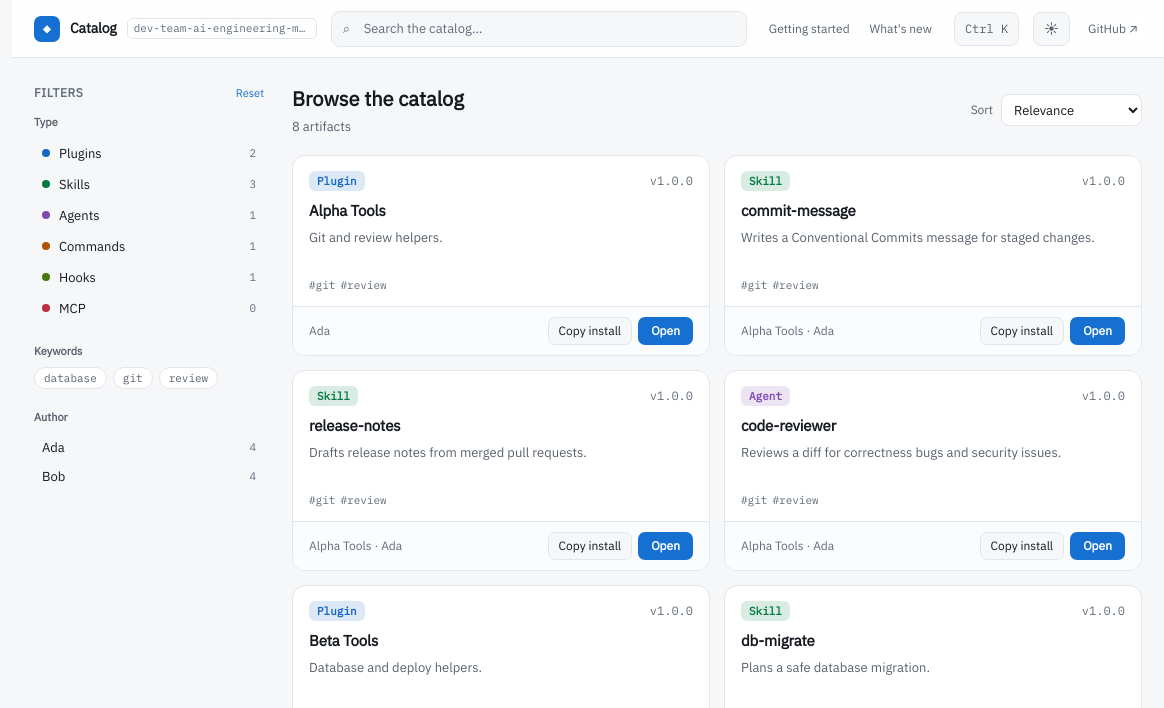
Test: search page URL state › typing in the header searches live (debounced) and replaces the URL
In the field labelled "Search the catalog": (539, 28) [331,10,747,46], type "commit"
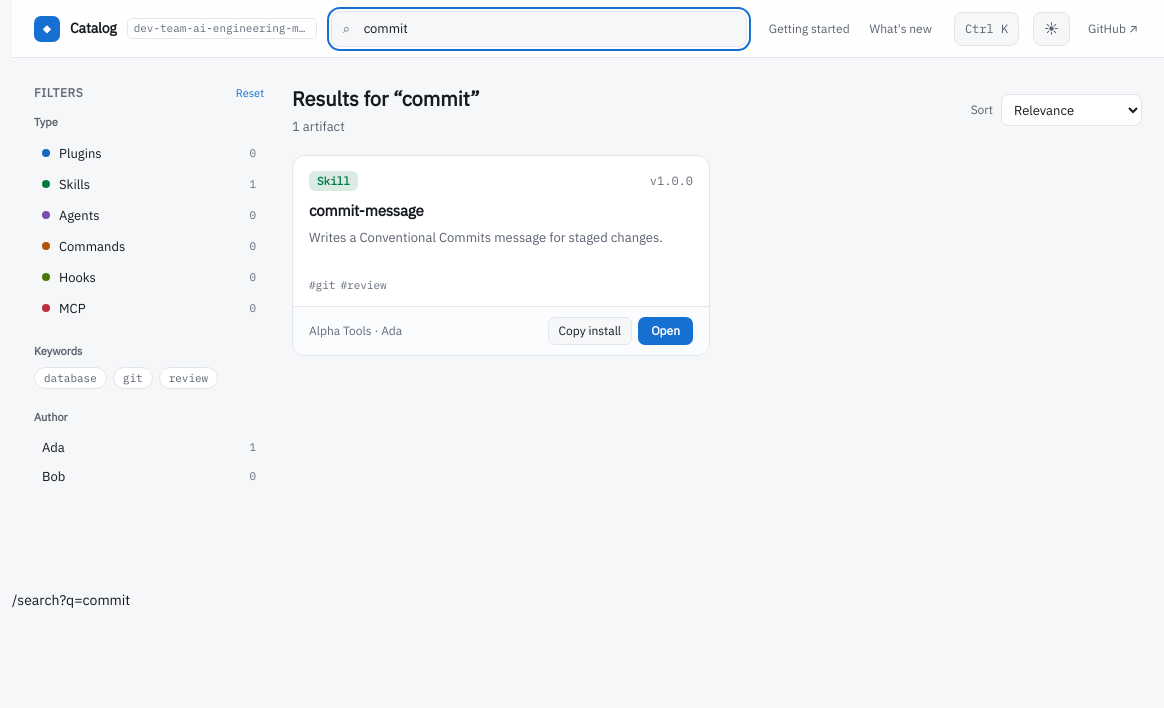
expect the link "commit-message" is shown: met, box [309,201,424,220]
expect the text with test id "location" reads "/search?q=commit": met, box [12,590,130,608]
expect the heading "Results for “commit”" is shown: met, box [292,84,480,114]
